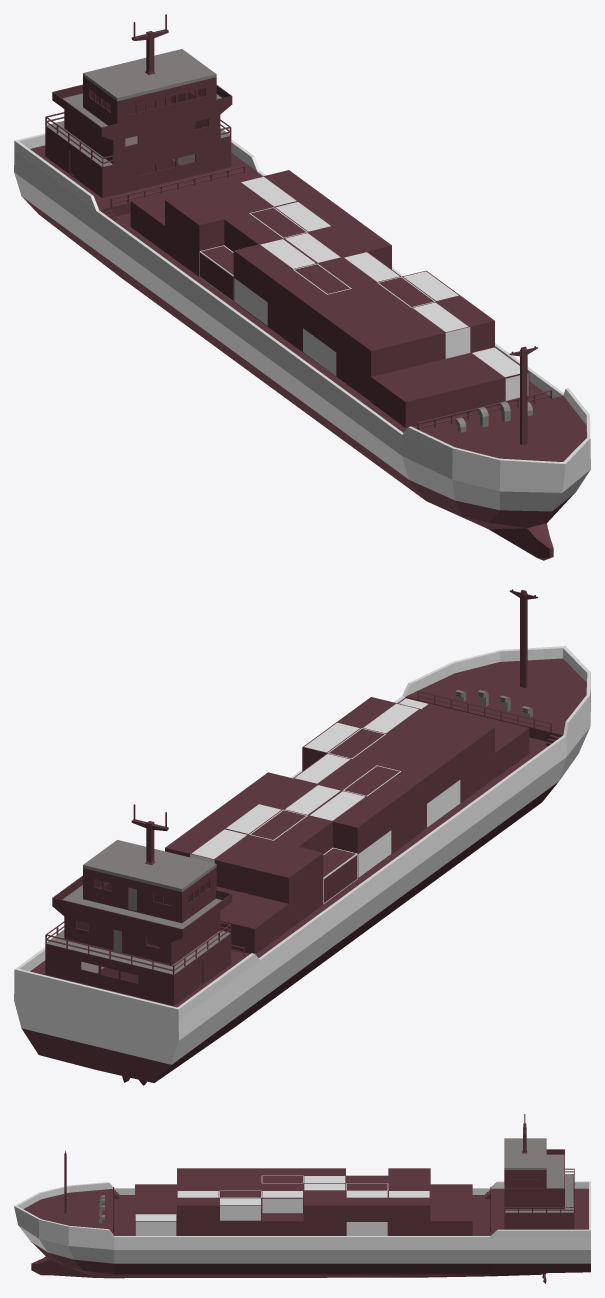
Rendered from ship-cargo.fbx.
3 renders of one model, top to bottom at view 1: azimuth 30°, elevation 25°; view 2: azimuth 150°, elevation 25°; view 3: azimuth 270°, elevation 25°, orthographic. The views are drawn at different scales.
Parts seen in each view (by area): view 1: ship-cargo, ship-cargos; view 2: ship-cargo, ship-cargos; view 3: ship-cargo, ship-cargos.
Part boxes in pixels (left/top/right/bottom): ship-cargo: left=14, top=14, right=590, bottom=560; ship-cargos: left=130, top=170, right=529, bottom=427; ship-cargo: left=14, top=589, right=590, bottom=1085; ship-cargos: left=165, top=697, right=529, bottom=954; ship-cargo: left=14, top=1114, right=590, bottom=1283; ship-cargos: left=135, top=1168, right=472, bottom=1235.
Size of the model in its own units: 16.64 by 25.43 by 81.97.
